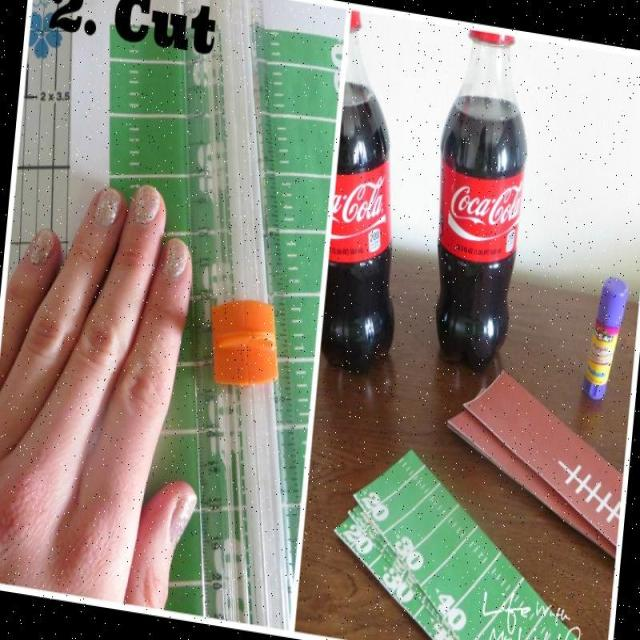coca-cola: (408, 26, 544, 372), (316, 5, 430, 380)
